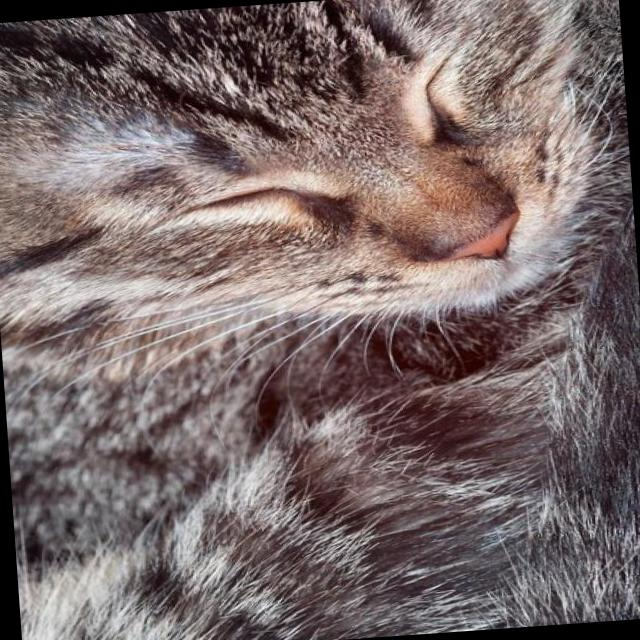Healthy skin: (17, 497, 324, 640), (12, 58, 232, 242), (392, 372, 562, 571), (132, 398, 192, 460)
